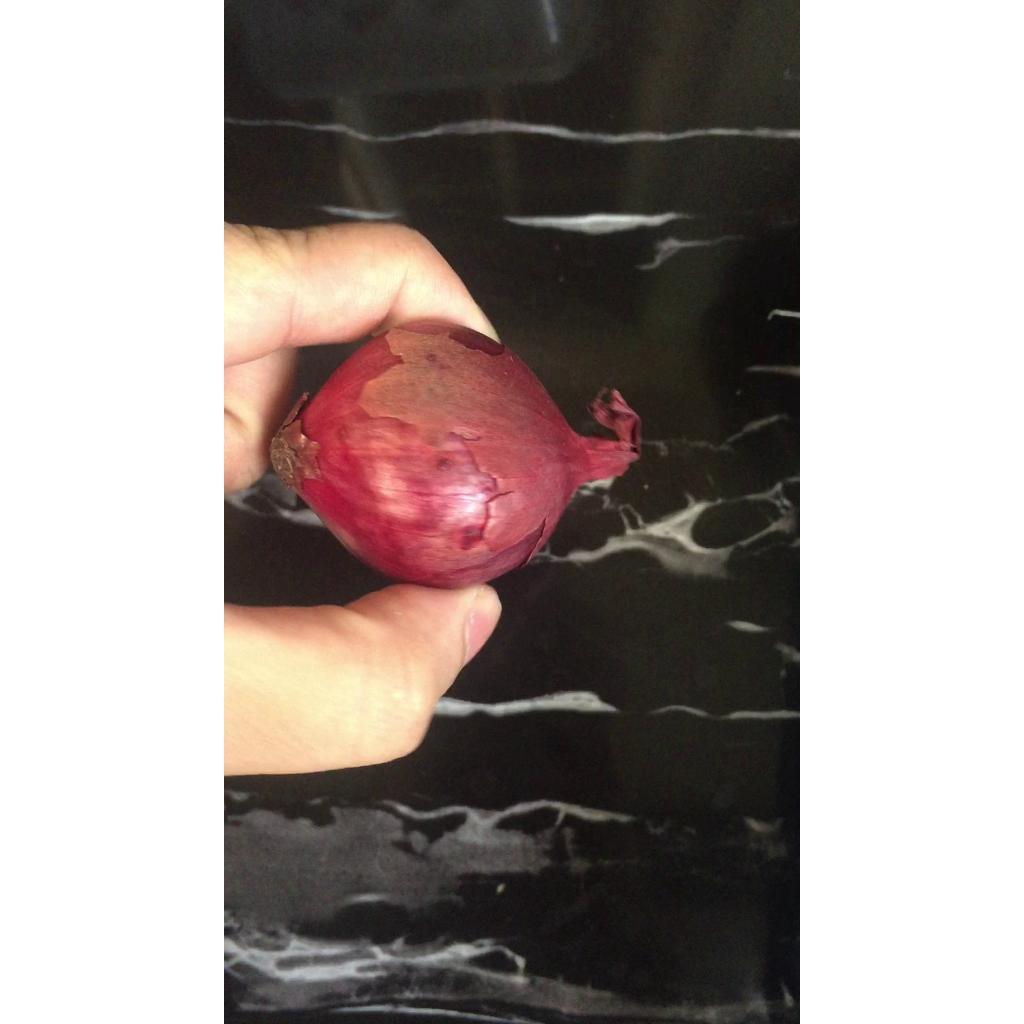Onion: (270, 321, 640, 588)
